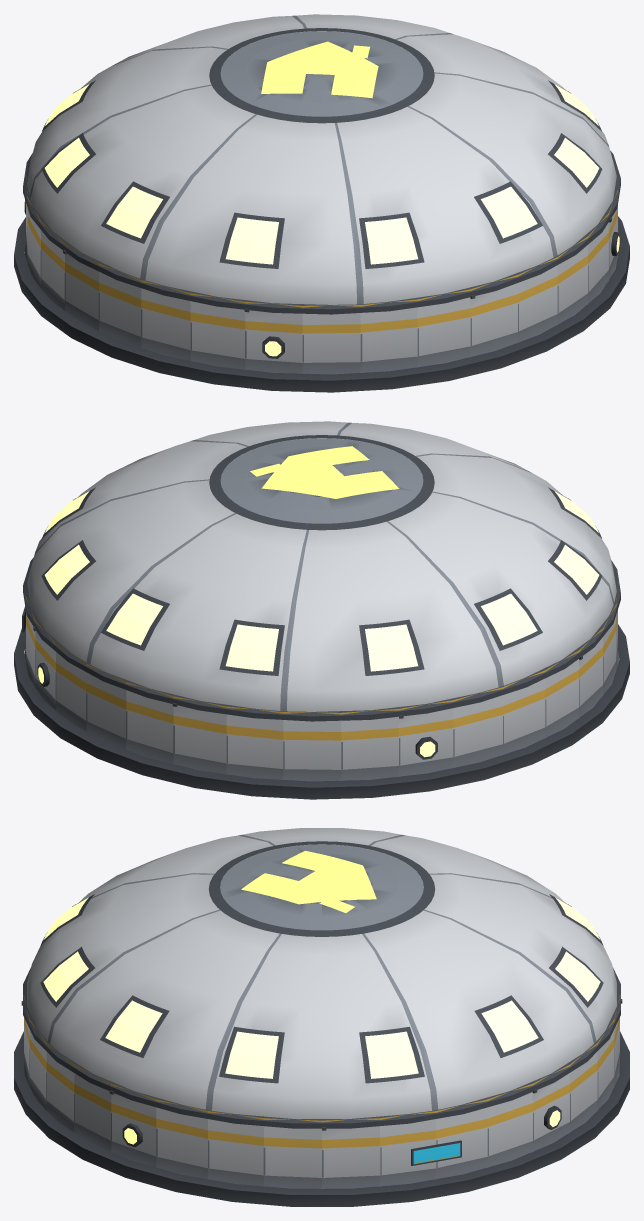
The model's file is habitat_s.glb.
3 renders of one model, top to bottom at view 1: azimuth 30°, elevation 25°; view 2: azimuth 150°, elevation 25°; view 3: azimuth 270°, elevation 25°, orthographic.
Visible parts, largest first — view 1: Roof, Base, Wall_21, Wall_20, Wall_22, Wall_19, Wall_23, Wall_18, Wall_24, Wall_17, Wall_25, Wall_16 (+11 smaller); view 2: Roof, Base, Wall_10, Wall_11, Wall_09, Wall_12, Wall_08, Wall_13, Wall_07, Wall_14, Wall_06, Wall_15 (+11 smaller); view 3: Roof, Base, Wall_31, Wall_00, Wall_30, Wall_29, Wall_01, Wall_28, Wall_03, Wall_02, Wall_04, Wall_27 (+9 smaller).
Part boxes in pixels (bbox=[...]): Roof: bbox=[23, 14, 620, 314]; Base: bbox=[14, 216, 629, 392]; Wall_21: bbox=[302, 313, 360, 374]; Wall_20: bbox=[244, 308, 302, 373]; Wall_22: bbox=[360, 307, 417, 372]; Wall_19: bbox=[190, 301, 245, 369]; Wall_23: bbox=[417, 297, 470, 367]; Wall_18: bbox=[141, 288, 190, 360]; Wall_24: bbox=[470, 283, 517, 357]; Wall_17: bbox=[98, 271, 141, 347]; Wall_25: bbox=[517, 265, 557, 342]; Wall_16: bbox=[63, 250, 98, 331]; Roof: bbox=[23, 421, 620, 721]; Base: bbox=[14, 624, 629, 799]; Wall_10: bbox=[283, 720, 341, 781]; Wall_11: bbox=[341, 716, 398, 780]; Wall_09: bbox=[226, 714, 283, 779]; Wall_12: bbox=[398, 708, 453, 776]; Wall_08: bbox=[172, 703, 226, 774]; Wall_13: bbox=[453, 695, 502, 767]; Wall_07: bbox=[126, 690, 173, 764]; Wall_14: bbox=[502, 678, 544, 754]; Wall_06: bbox=[86, 672, 126, 749]; Wall_15: bbox=[545, 659, 578, 738]; Roof: bbox=[23, 828, 620, 1128]; Base: bbox=[14, 1031, 629, 1206]; Wall_31: bbox=[263, 1126, 321, 1188]; Wall_00: bbox=[322, 1126, 379, 1188]; Wall_30: bbox=[208, 1119, 263, 1186]; Wall_29: bbox=[156, 1107, 207, 1179]; Wall_01: bbox=[380, 1119, 435, 1186]; Wall_28: bbox=[109, 1090, 156, 1167]; Wall_03: bbox=[487, 1092, 532, 1167]; Wall_02: bbox=[436, 1107, 487, 1179]; Wall_04: bbox=[532, 1073, 569, 1151]; Wall_27: bbox=[74, 1073, 111, 1151].
Bounding box in the file's own units: 11.74 × 4.14 × 11.74.
